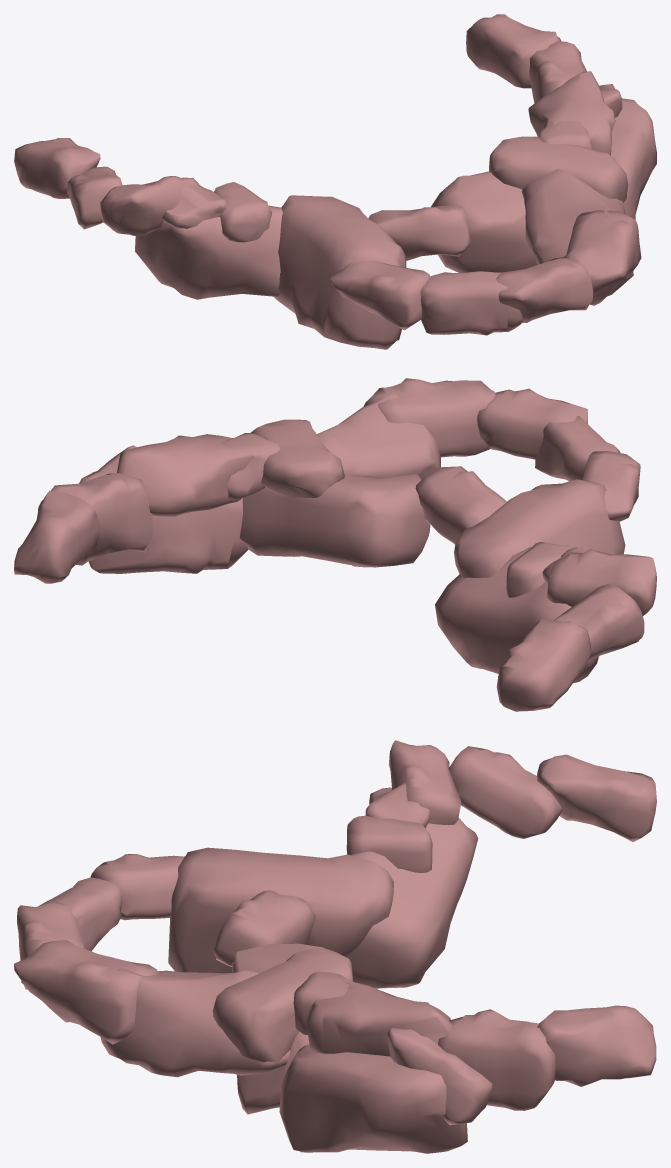
File: Floor_Rock_Pile_03B_Lod0.fbx
3 views of the same model, one above another, from view 1: azimuth 30°, elevation 25°; view 2: azimuth 150°, elevation 25°; view 3: azimuth 270°, elevation 25° (orthographic). The views are drawn at different scales.
Parts seen in each view (by area): view 1: Floor_Rock_Pile_03B_Lod0; view 2: Floor_Rock_Pile_03B_Lod0; view 3: Floor_Rock_Pile_03B_Lod0.
Boxes of the visible parts, x1,y1,x2,y2 form: Floor_Rock_Pile_03B_Lod0: (14, 14, 656, 349); Floor_Rock_Pile_03B_Lod0: (14, 378, 656, 711); Floor_Rock_Pile_03B_Lod0: (14, 740, 656, 1153).
Bounding box in the file's own units: 889 × 215 × 784.
